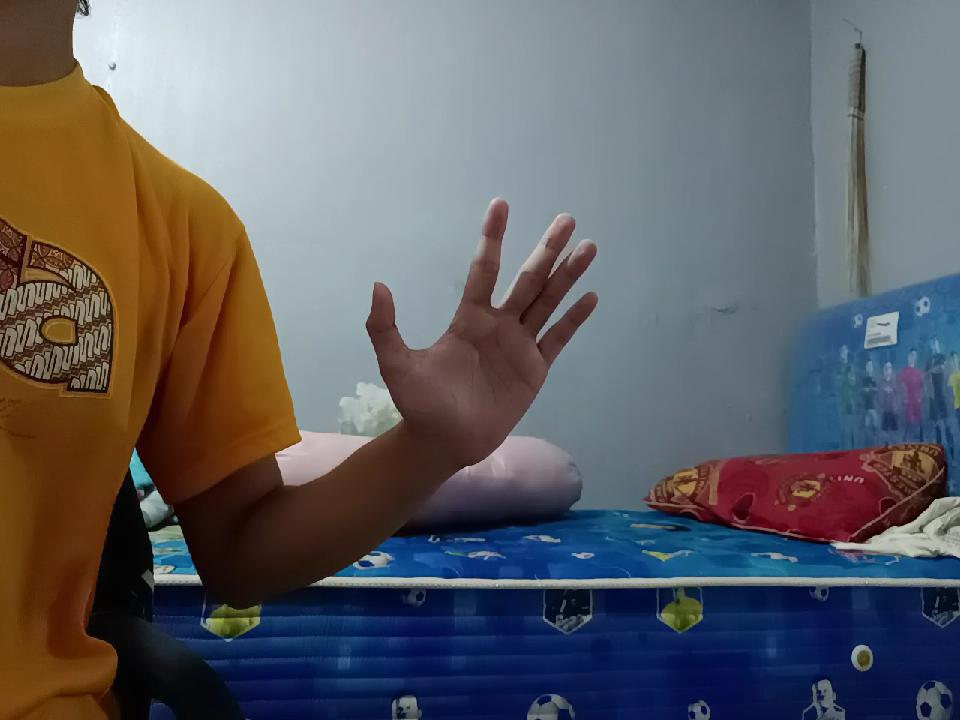paper: (338, 169, 616, 472)
